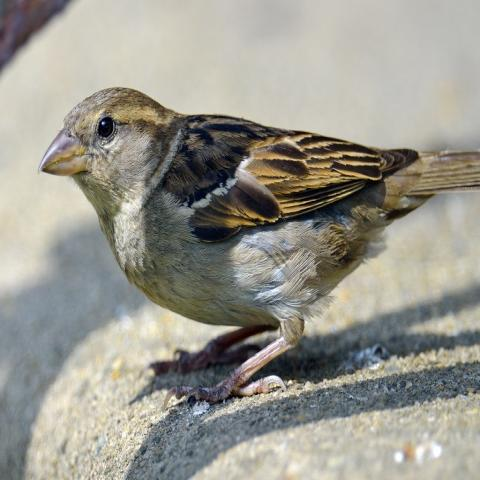bird: (36, 82, 478, 410)
